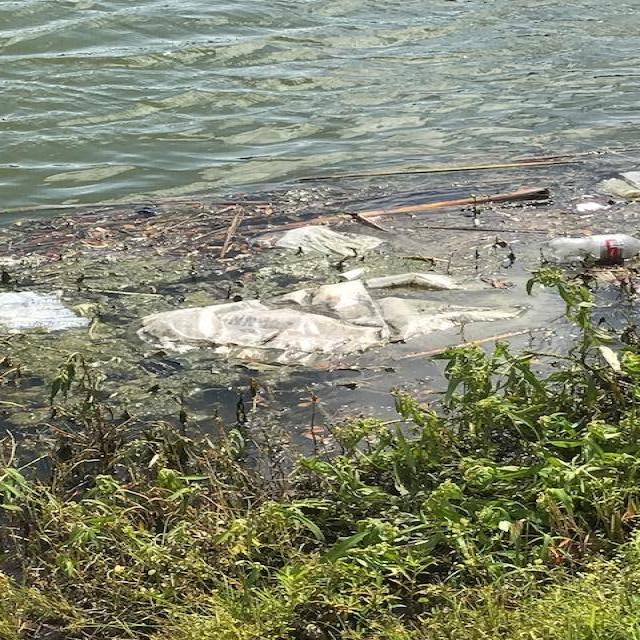litter: (1, 172, 639, 372)
